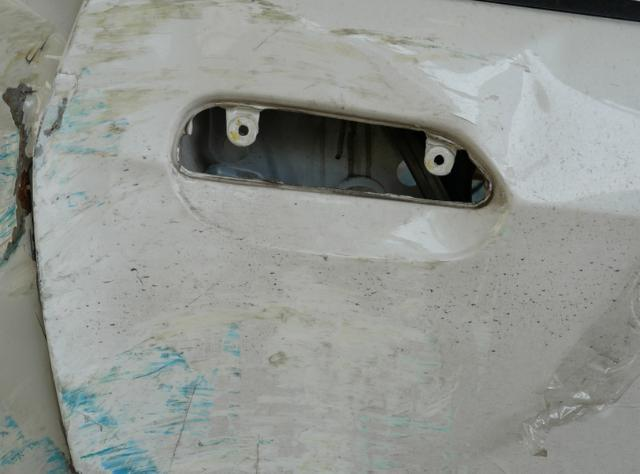Door: (69, 4, 621, 474)
